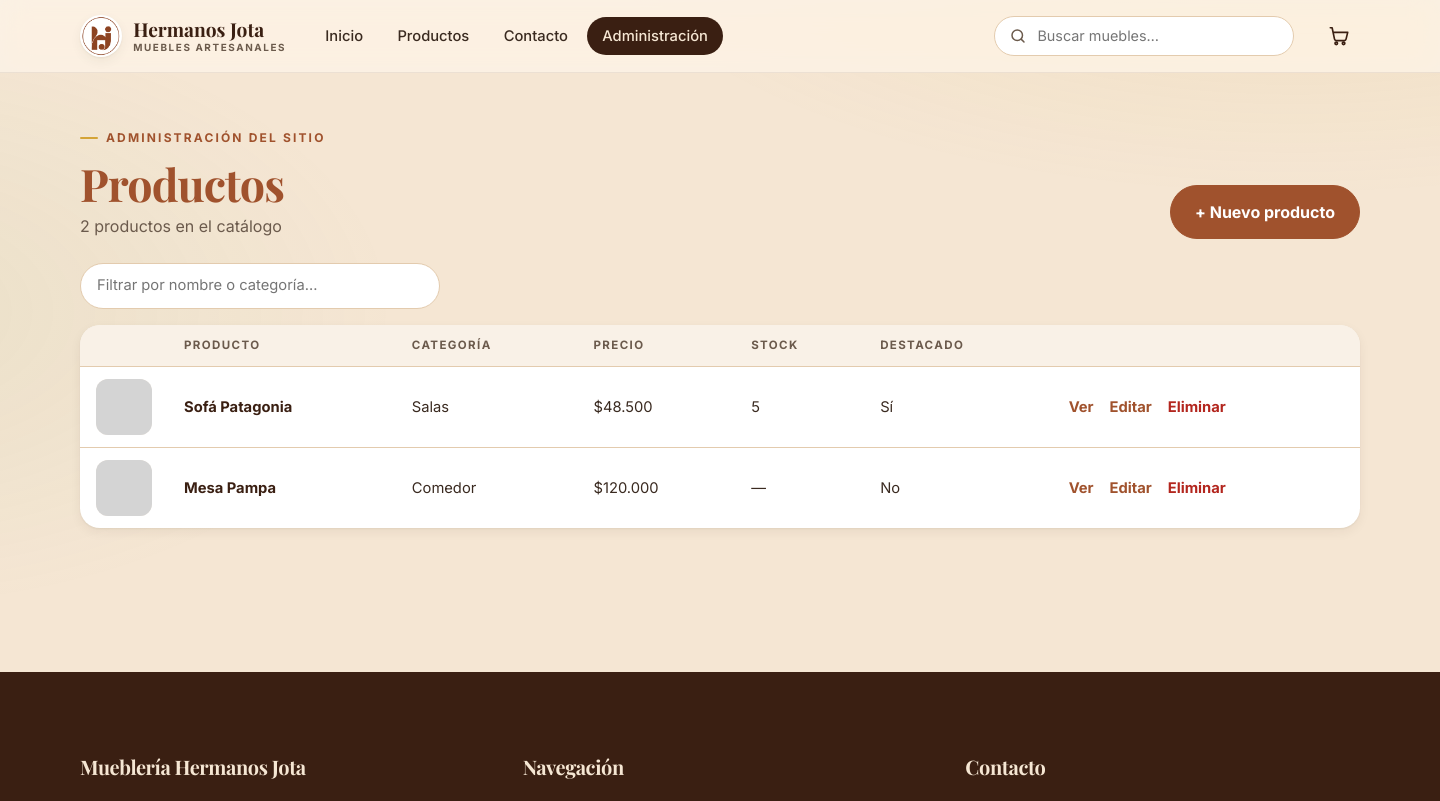
si la API falla al eliminar, se muestra el error y la fila se mantiene
Click the button named "Eliminar Sofá Patagonia": {"x": 1197, "y": 407} left=1168, top=390, right=1226, bottom=425
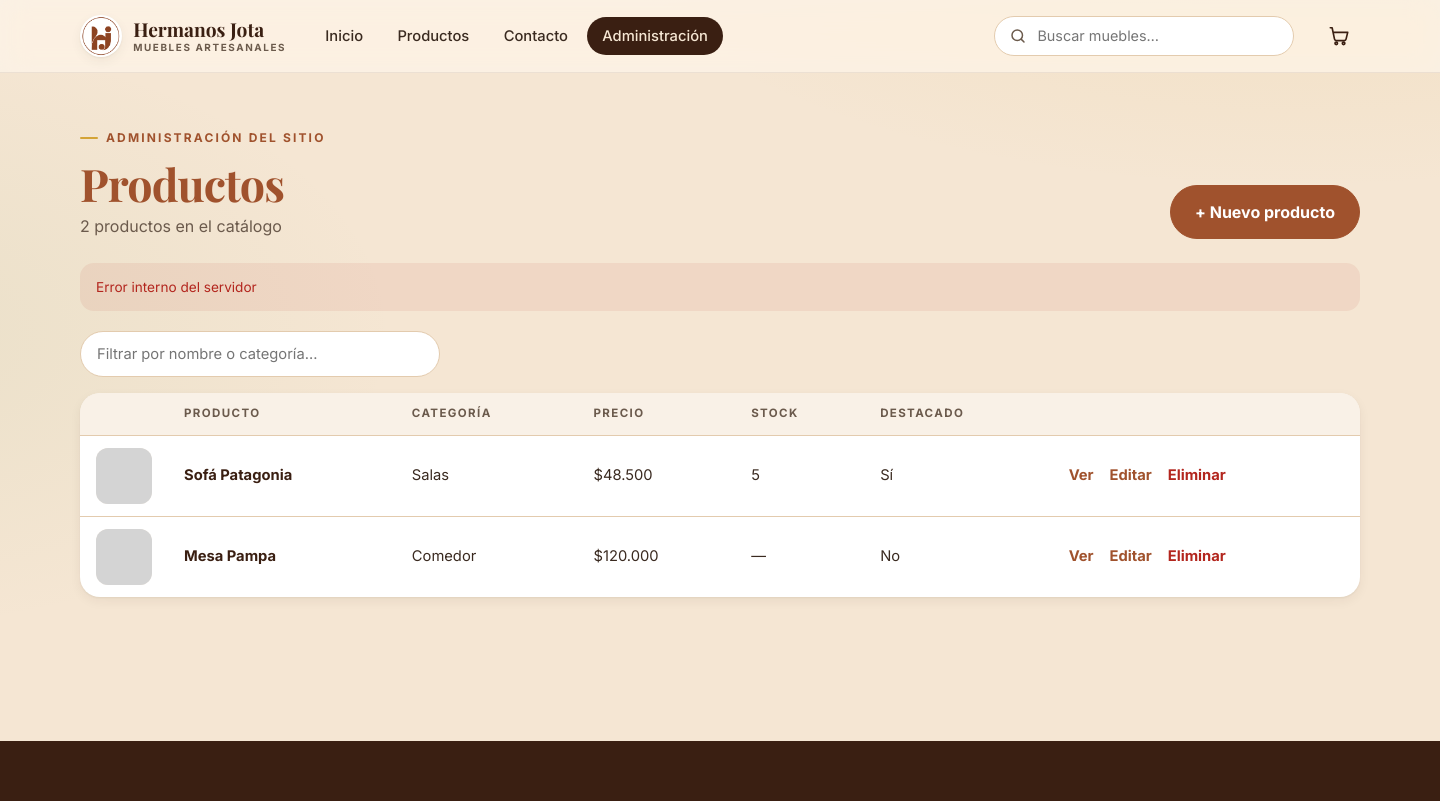
Expected: the column heading "Sofá Patagonia" is shown, left=168, top=435, right=396, bottom=516
Expected: the message reads "Error interno del servidor", left=96, top=278, right=257, bottom=294
